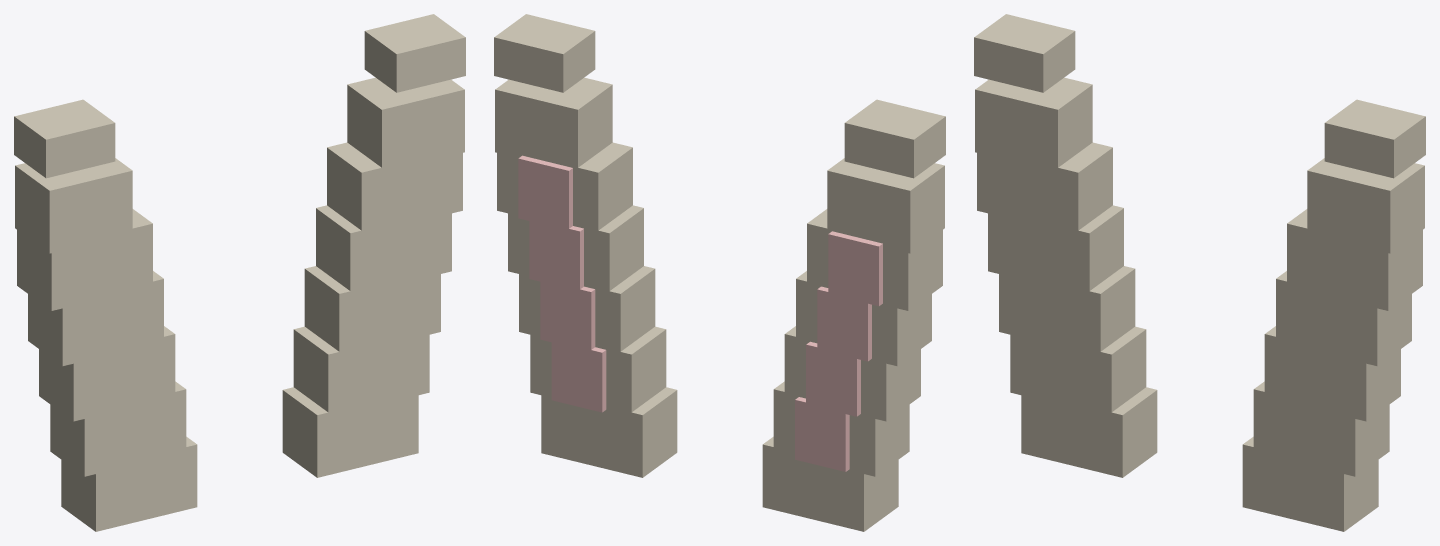
The model's file is orelhas_coelho.glb.
3 views of the same model, side by side, from view 1: azimuth 30°, elevation 25°; view 2: azimuth 150°, elevation 25°; view 3: azimuth 330°, elevation 25° (orthographic).
Parts seen in each view (by area): view 1: orelhas_coelho; view 2: orelhas_coelho; view 3: orelhas_coelho.
Part boxes in pixels (box(x1,y1,x2,y2)): orelhas_coelho: box(14, 14, 465, 531); orelhas_coelho: box(494, 14, 945, 531); orelhas_coelho: box(974, 14, 1425, 531).
Bounding box in the file's own units: 0.455 × 0.4175 × 0.0725.
